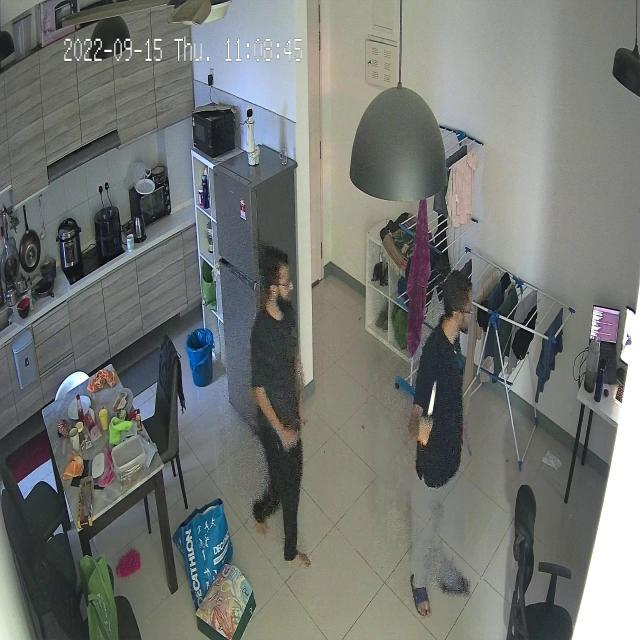Knife: (415, 373, 447, 432)
